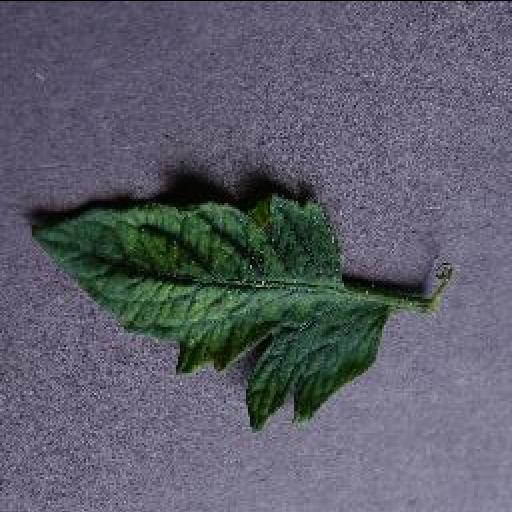Mosaic Virus: (24, 190, 388, 430)
